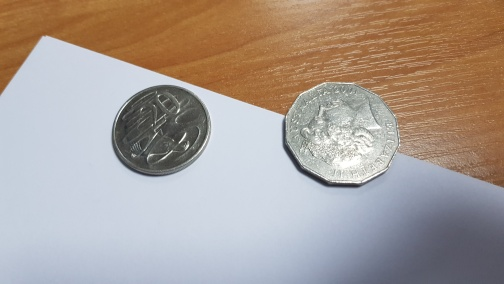coin: (283, 81, 401, 188), (111, 84, 212, 177)
